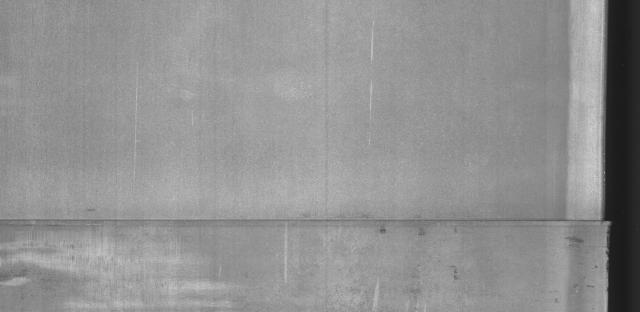welding_line: (1, 205, 622, 237)
